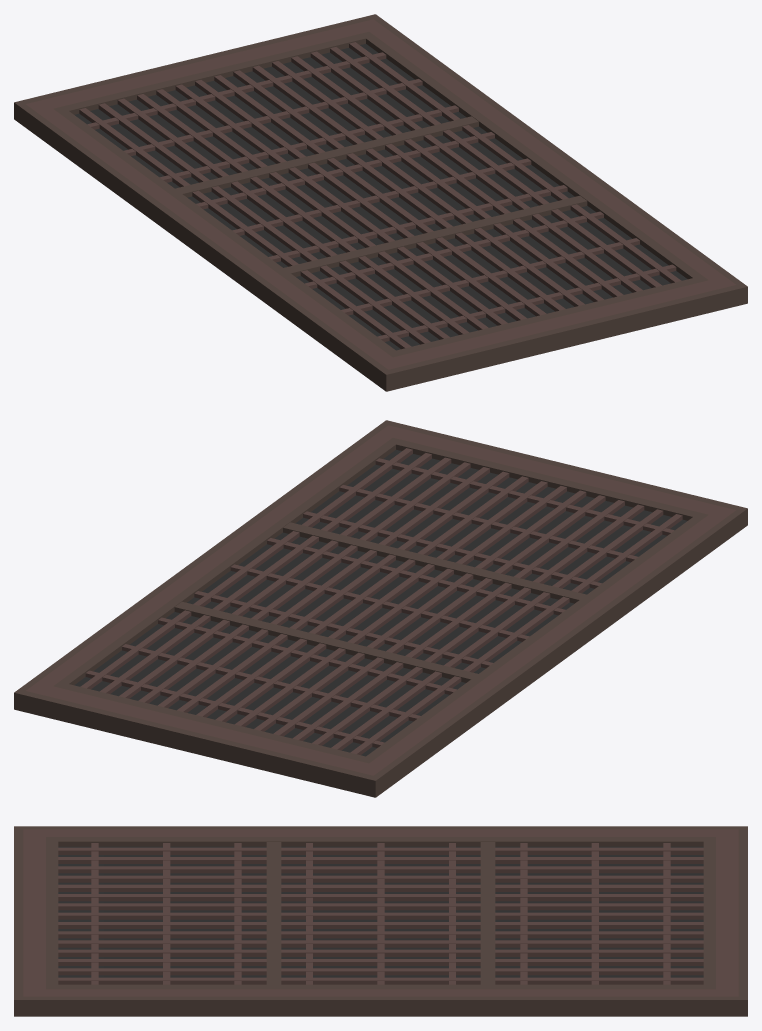
Rendered from Grate_1_C.fbx.
3 renders of one model, top to bottom at view 1: azimuth 30°, elevation 25°; view 2: azimuth 150°, elevation 25°; view 3: azimuth 270°, elevation 25°, orthographic.
Visible parts, largest first — view 1: Grate_1_C; view 2: Grate_1_C; view 3: Grate_1_C.
Part boxes in pixels (x1,y1,x2,y2): Grate_1_C: [14, 14, 747, 391]; Grate_1_C: [14, 420, 747, 797]; Grate_1_C: [14, 826, 747, 1016].
Bounding box in the file's own units: 81.5 × 3.65 × 145.
